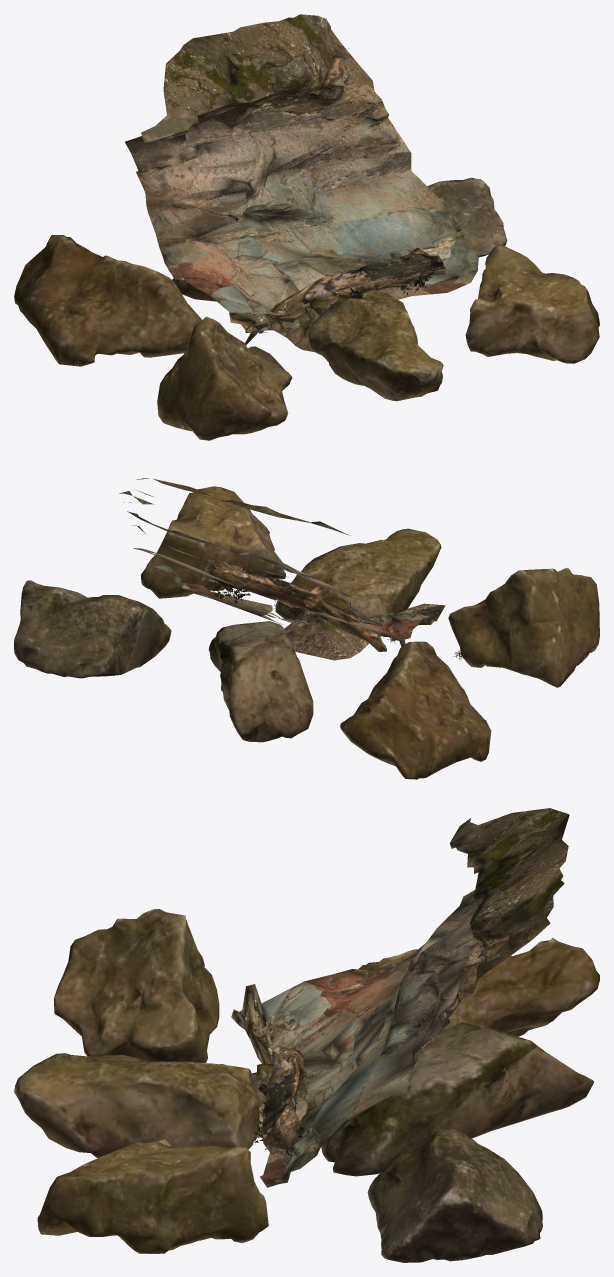
Rendered from land.glb.
3 views of the same model, one above another, from view 1: azimuth 30°, elevation 25°; view 2: azimuth 150°, elevation 25°; view 3: azimuth 270°, elevation 25° (orthographic). The views are drawn at different scales.
Parts seen in each view (by area): view 1: cliff_0, mossrocks_0, mossrocks_5, mossrocks_3, mossrocks_4, log_0, mossrocks_2, stump_0; view 2: mossrocks_3, mossrocks_0, mossrocks_2, mossrocks_1, mossrocks_5, mossrocks_4, cliff_0, log_0, stump_0; view 3: cliff_0, mossrocks_4, mossrocks_1, mossrocks_3, mossrocks_5, mossrocks_2, mossrocks_0, log_0, stump_0.
Part boxes in pixels (x1,y1,x2,y2): cliff_0: [125, 14, 478, 329]; mossrocks_0: [14, 235, 201, 366]; mossrocks_5: [465, 243, 599, 363]; mossrocks_3: [157, 316, 292, 440]; mossrocks_4: [308, 291, 443, 401]; log_0: [229, 247, 445, 344]; mossrocks_2: [427, 177, 507, 257]; stump_0: [274, 297, 342, 352]; mossrocks_3: [448, 567, 599, 687]; mossrocks_0: [340, 641, 491, 779]; mossrocks_2: [14, 580, 171, 678]; mossrocks_1: [208, 621, 313, 742]; mossrocks_5: [141, 486, 285, 598]; mossrocks_4: [275, 528, 441, 619]; cliff_0: [119, 478, 429, 640]; log_0: [201, 559, 445, 651]; stump_0: [284, 596, 381, 660]; cliff_0: [260, 808, 569, 1187]; mossrocks_4: [14, 1053, 260, 1157]; mossrocks_1: [321, 1022, 593, 1176]; mossrocks_3: [54, 909, 219, 1062]; mossrocks_5: [37, 1139, 268, 1253]; mossrocks_2: [367, 1127, 542, 1262]; mossrocks_0: [358, 938, 599, 1036]; log_0: [231, 984, 305, 1154]; stump_0: [251, 1063, 307, 1137].
Size of the model in its own units: 8 by 4.18 by 6.94.
Materials: 8 (8 with a texture image).
